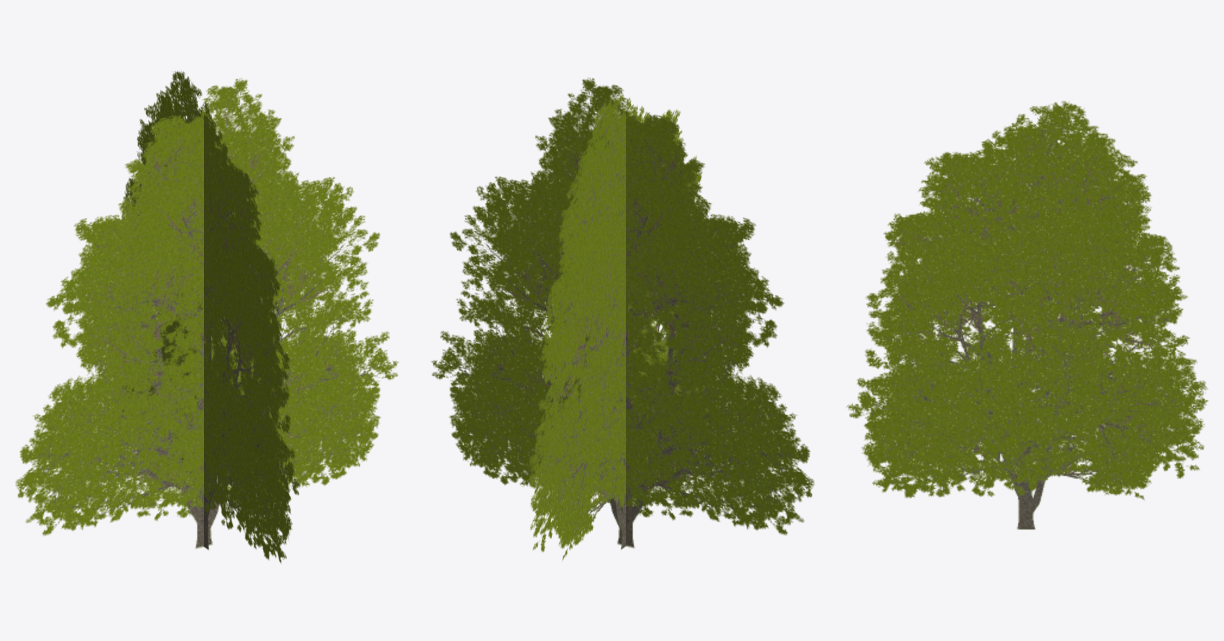
File: AcerSaccharum.glb
The picture shows the model from 3 angles, left to right: view 1: azimuth 30°, elevation 25°; view 2: azimuth 150°, elevation 25°; view 3: azimuth 270°, elevation 25°; orthographic projection. The views are drawn at different scales.
Visible parts, largest first — view 1: mesh__mat_billboard_9; view 2: mesh__mat_billboard_9; view 3: mesh__mat_billboard_9.
Part boxes in pixels (bbox=[...]): mesh__mat_billboard_9: bbox=[15, 71, 398, 563]; mesh__mat_billboard_9: bbox=[431, 77, 814, 560]; mesh__mat_billboard_9: bbox=[846, 101, 1208, 529].
Bounding box in the file's own units: 13.62 × 15.8 × 11.96.
Materials: 1 (1 with a texture image).
